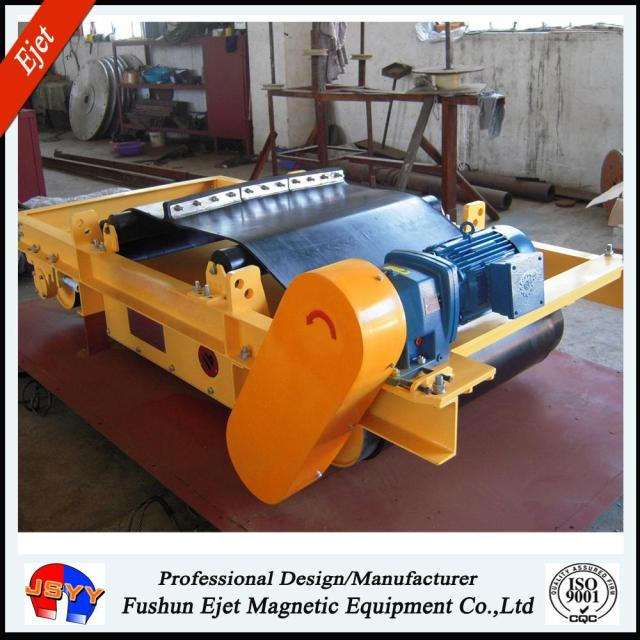conveyor: (7, 115, 625, 442)
